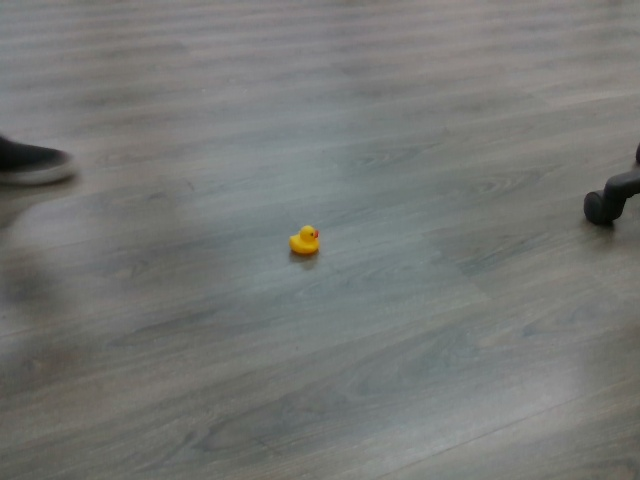duck: (285, 222, 321, 255)
